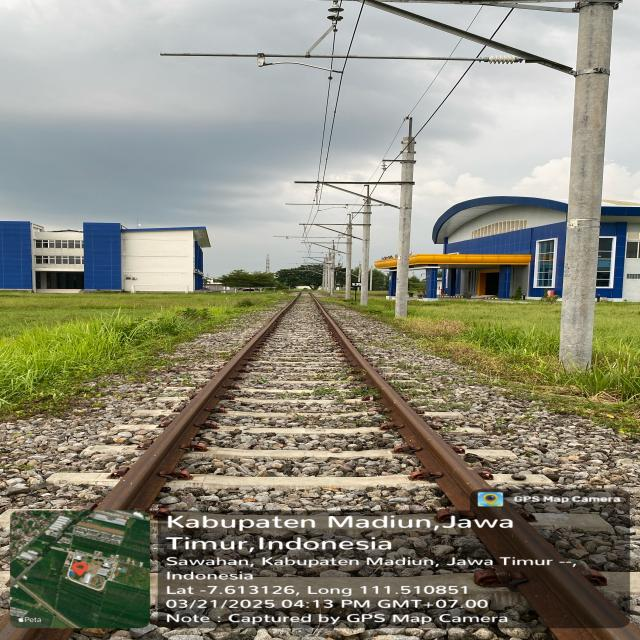rail-detection: (310, 296, 640, 640), (99, 301, 294, 510)
